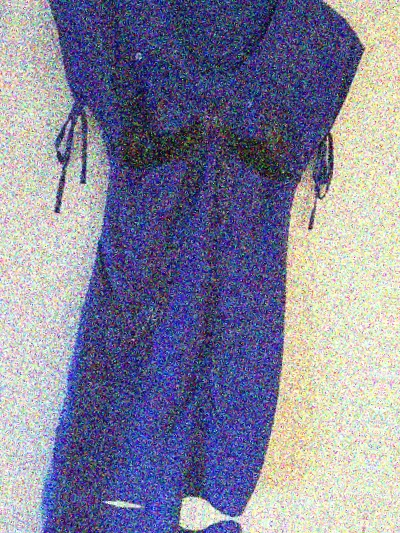Dress: (0, 0, 395, 524), (0, 495, 323, 533)
